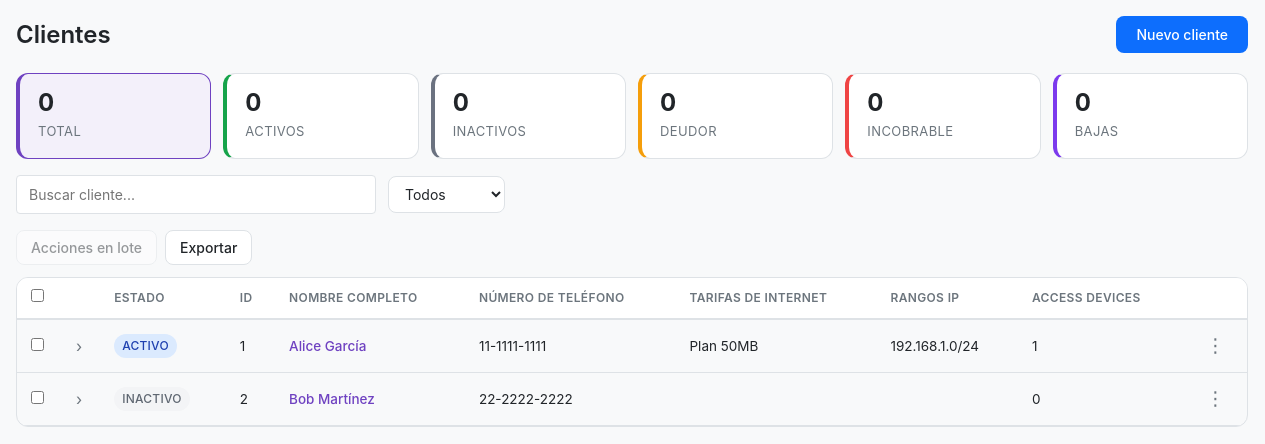
CustomersListPage › "Acciones en lote" button is enabled after selecting rows
# click the select-all checkbox (first checkbox in the table)
Click the checkbox named "Seleccionar todos" at {"x": 38, "y": 295}, box [31, 289, 44, 302]
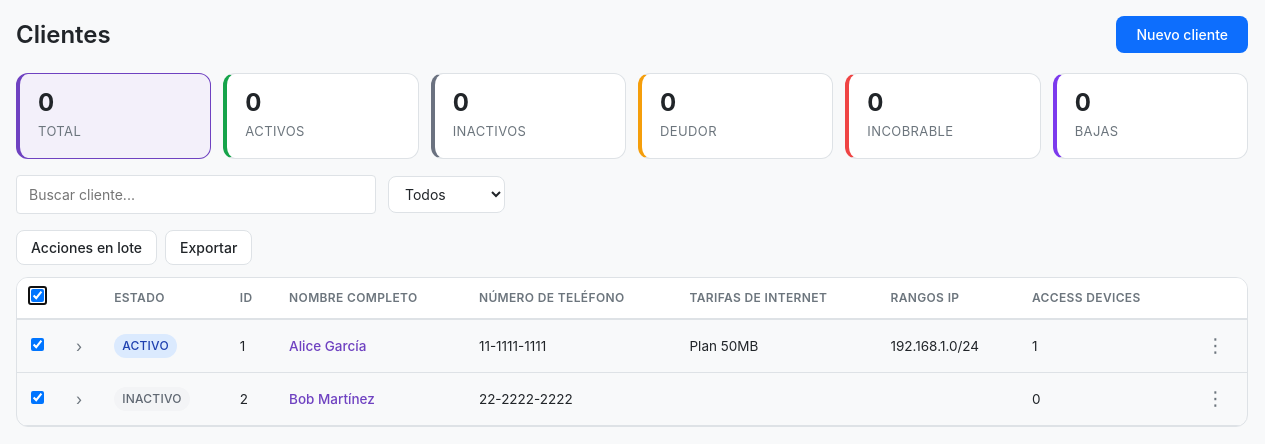
Check: the button "Acciones en lote" is enabled, box [16, 230, 157, 265]
